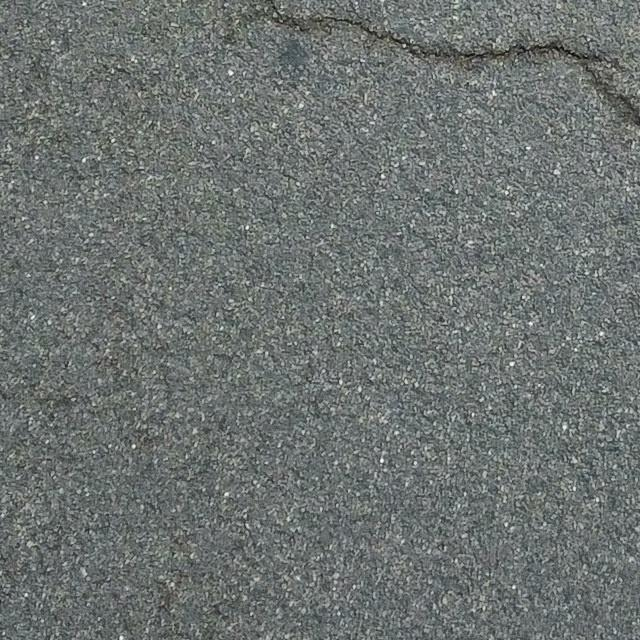TransverseCrack: (271, 8, 640, 123)
